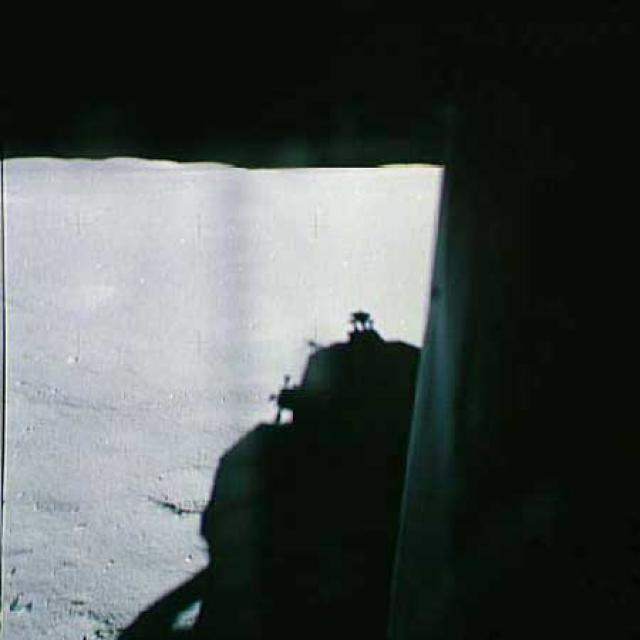crater: (18, 344, 212, 424), (130, 452, 285, 524)
